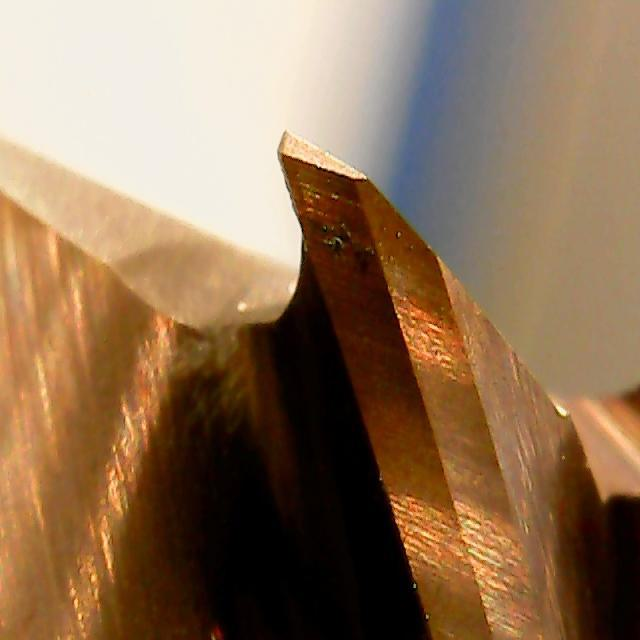Tool-wear-class-0: (260, 122, 426, 350)
